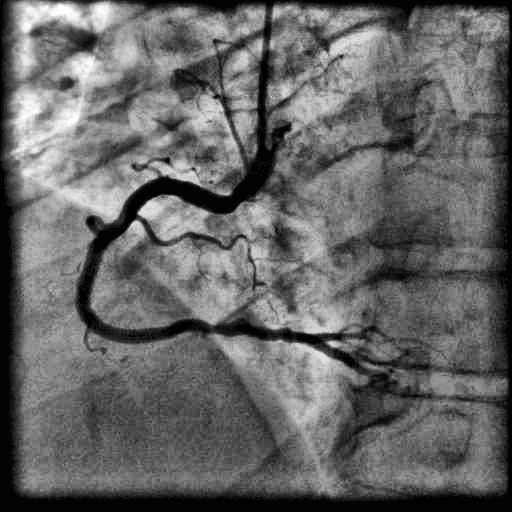pborca: (316, 331, 360, 342)
pda: (314, 342, 380, 379)
rca: (76, 177, 318, 346)
